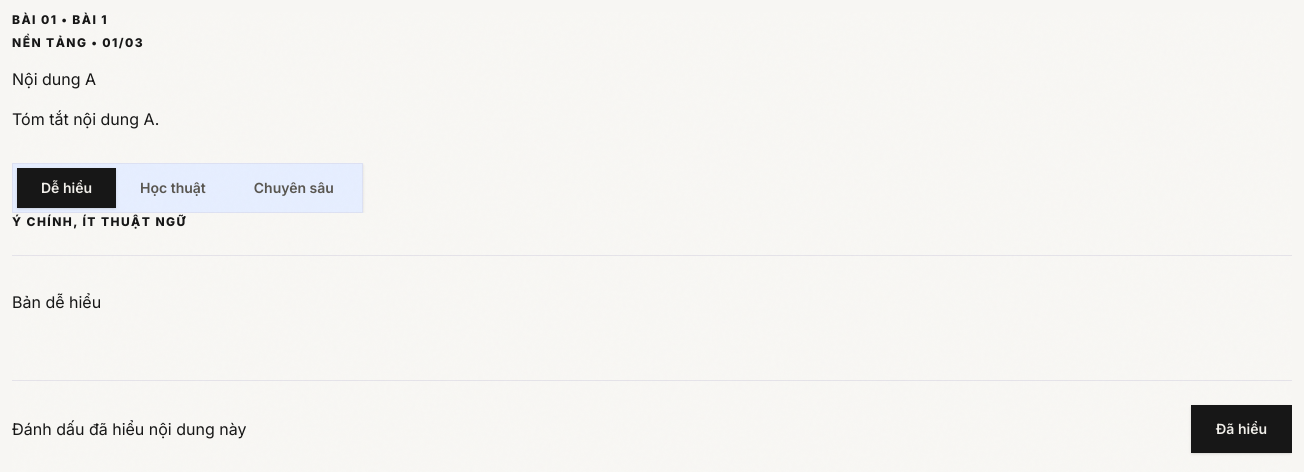
Test: Reader level blocks › shows a segmented level switcher and one active reading column
Expected: the heading "Nội dung A" is shown, [12,69,96,89]
Expected: the text "Tóm tắt nội dung A." is shown, [12,109,159,129]
Click the tab "Học thuật" at (173, 188), box [116,168,230,208]
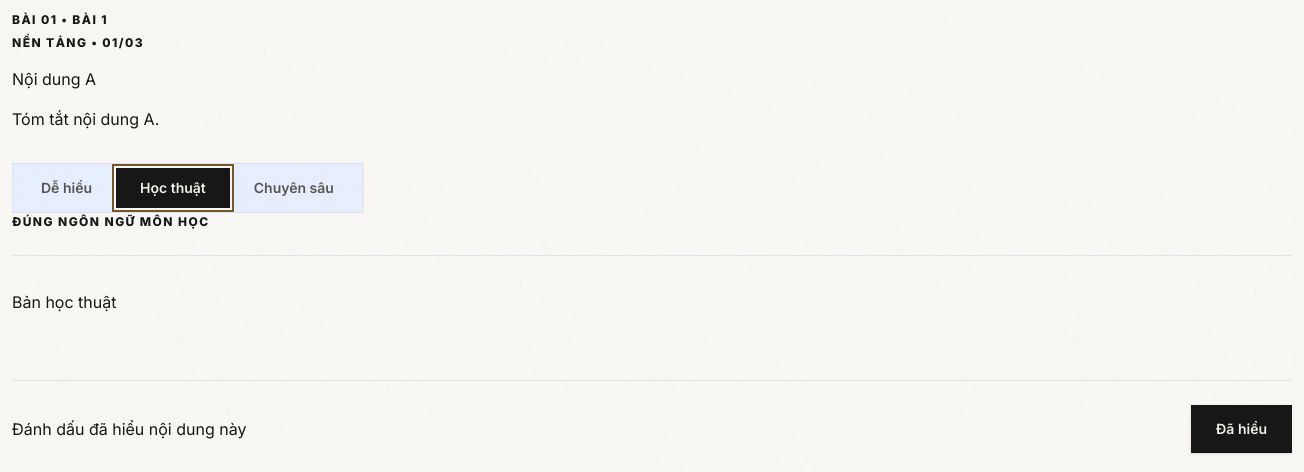
Now the text "Bản học thuật" is shown, box [12,292,116,312]
Now the text "Bản dễ hiểu" is gone
